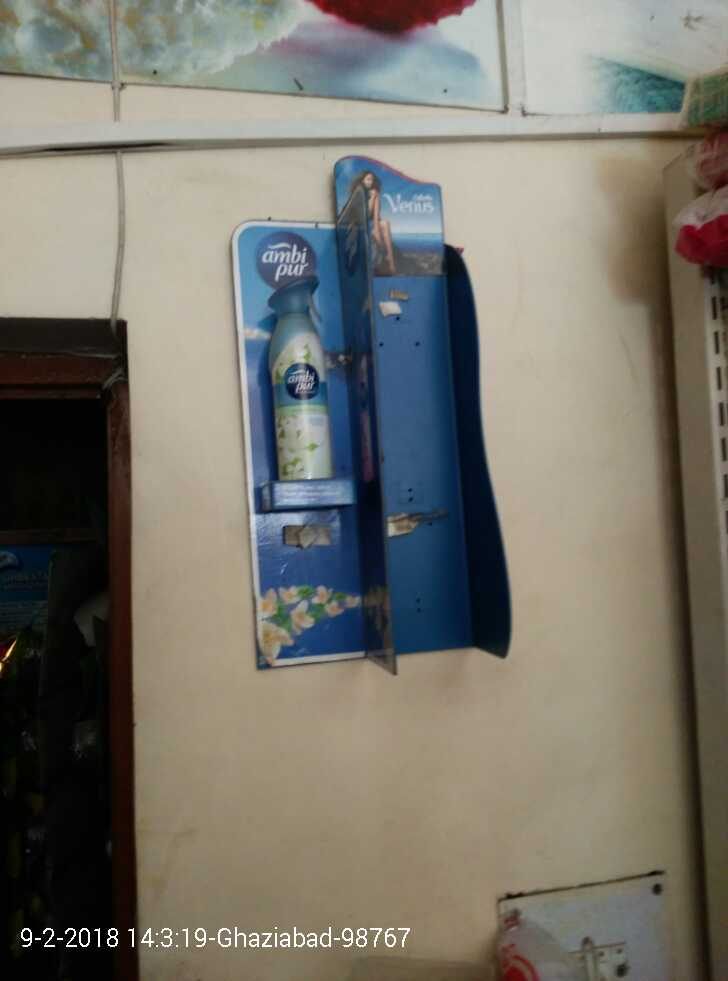ambipure: (272, 286, 340, 486)
